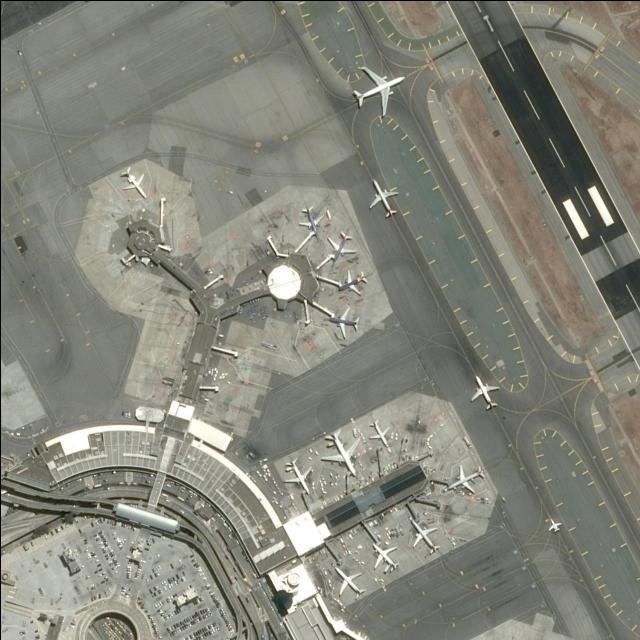Aircraft: (349, 65, 405, 119), (320, 429, 360, 481), (279, 456, 313, 498), (364, 180, 398, 221), (323, 305, 359, 343), (446, 464, 485, 498), (467, 374, 499, 412), (407, 518, 438, 556), (330, 566, 364, 600), (324, 231, 356, 267), (116, 166, 149, 200), (295, 205, 323, 239), (335, 268, 367, 297), (366, 418, 393, 452), (371, 541, 396, 573), (546, 518, 562, 534)
